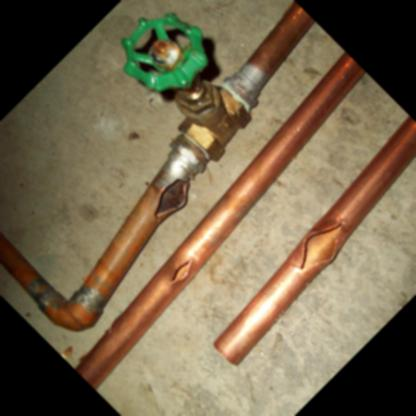burst: (292, 221, 350, 279), (152, 177, 190, 221), (166, 257, 200, 285)
